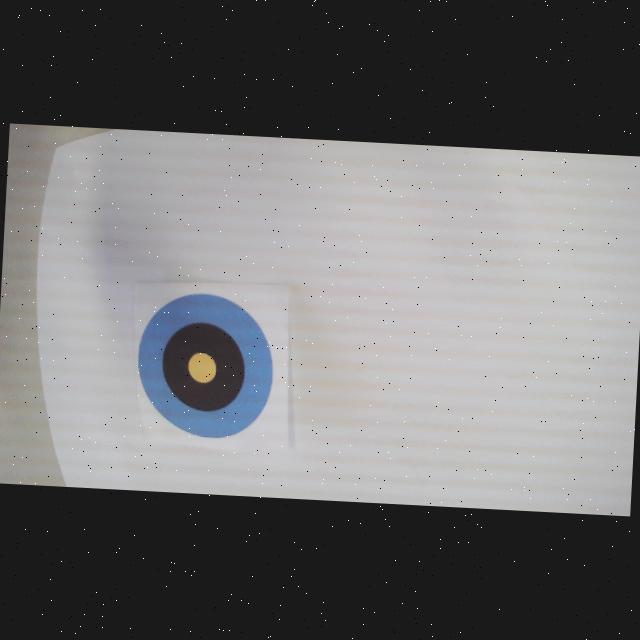COGNITIVE: (134, 290, 278, 442)
